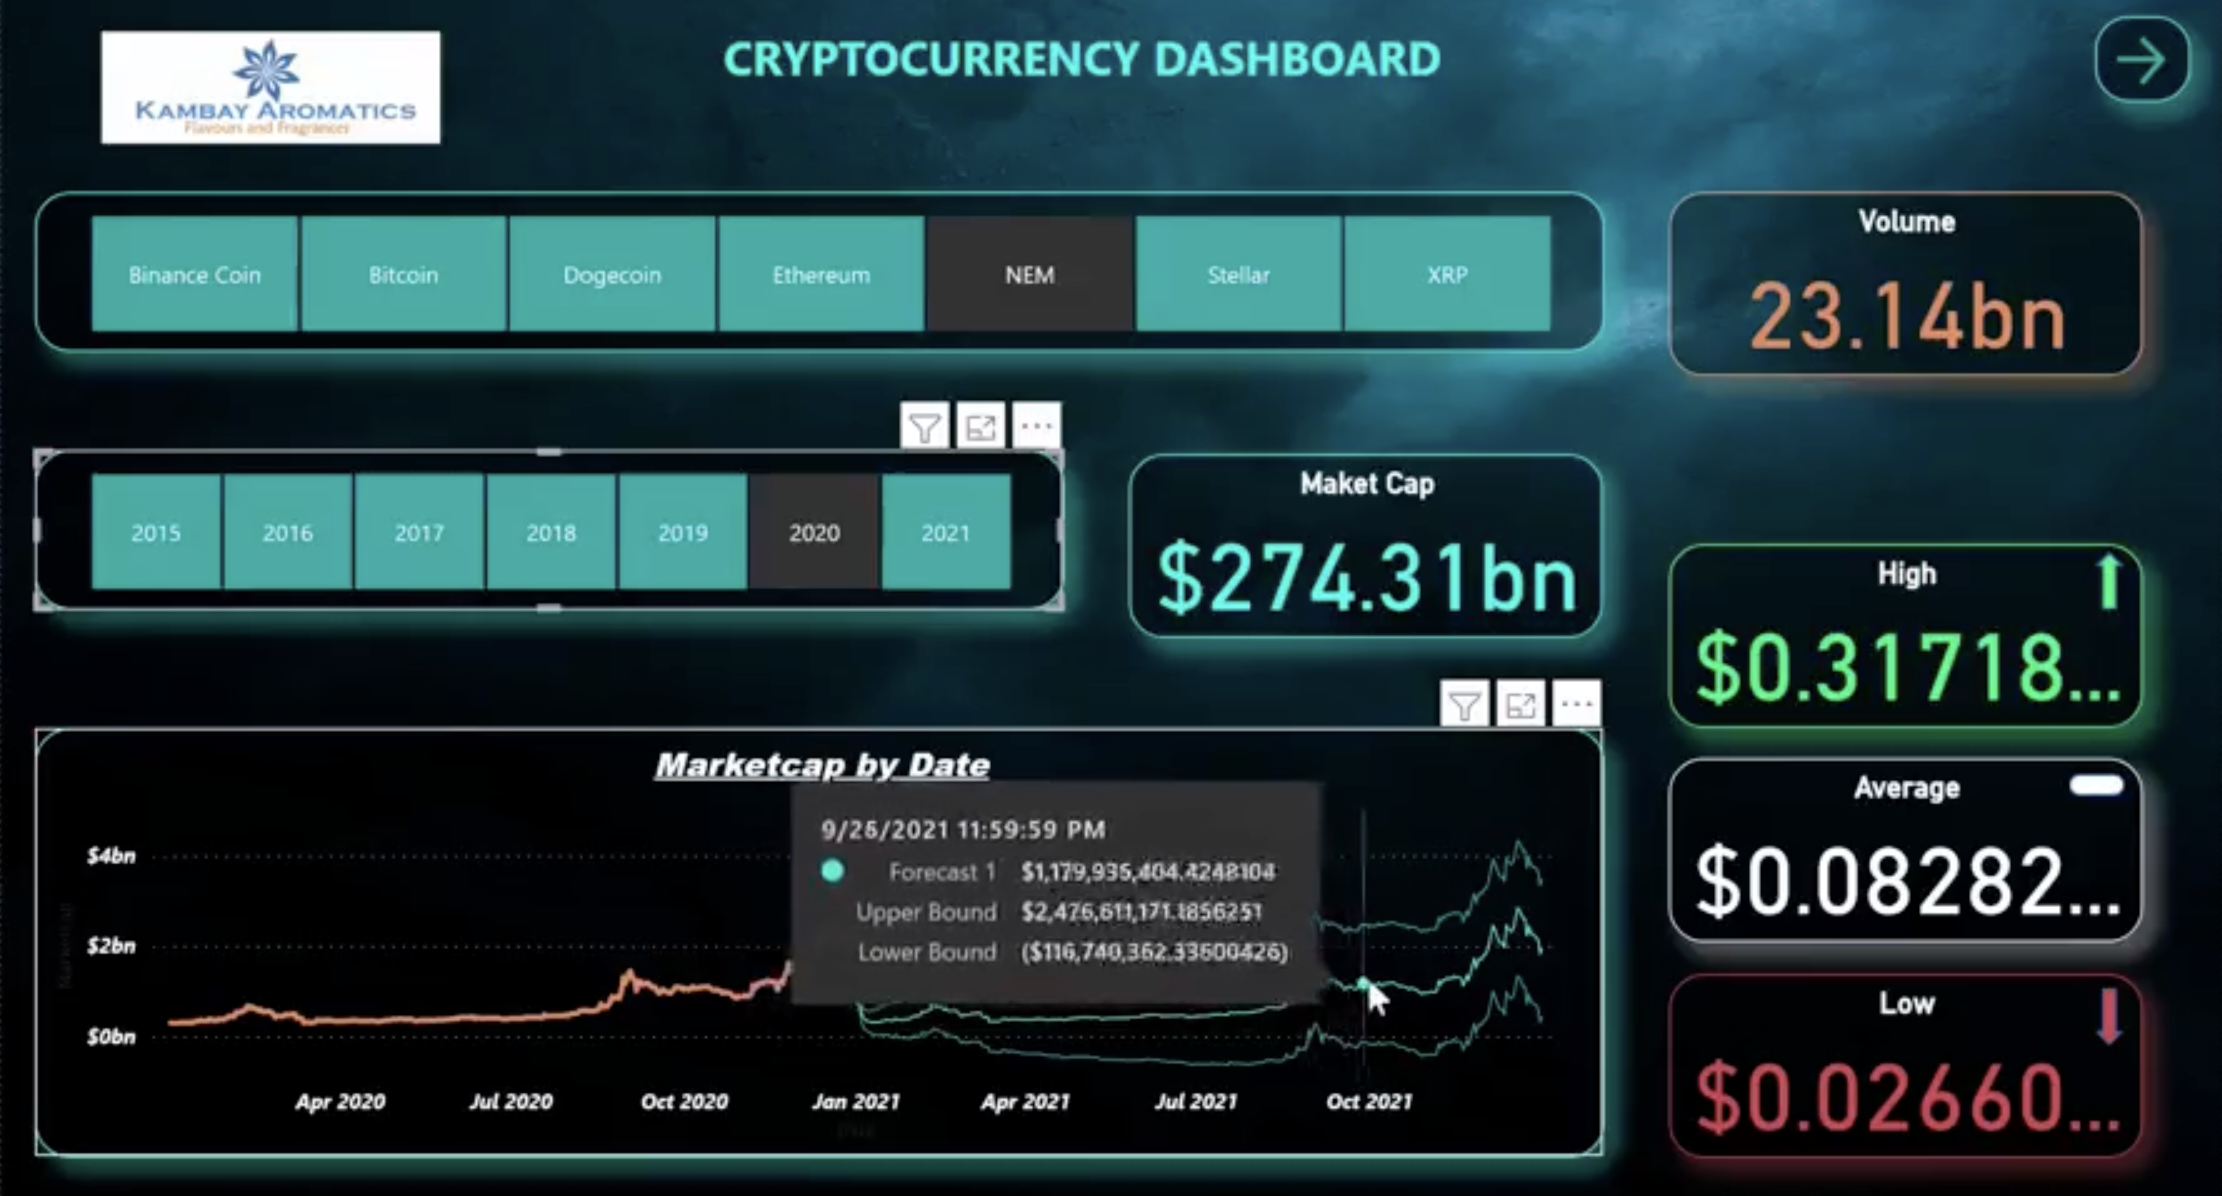

What the dashboard file says about the page in this screenshot:
{"tool":"powerbi","page":{"name":"Page 1","canvas":[1280,720],"ordinal":0},"visuals":[{"type":"slicer","fields":{"Values":["CryptoData CSV.Name"]},"box":[19.1,118.6,903.9,91.8],"z":0},{"type":"slicer","fields":{"Values":["CryptoData CSV.Year"]},"box":[19.1,267.7,592.8,91.8],"z":1000},{"type":"lineChart","fields":{"Y":["Sum(CryptoData CSV.Marketcap)"],"Category":["CryptoData CSV.Date"]},"box":[19.1,427.1,903.9,247.3],"z":2000},{"type":"actionButton","box":[1206.1,17.8,54.8,49.7],"z":3000},{"type":"image","box":[53,17.3,205.1,81.8],"z":4000},{"type":"textbox","box":[411.8,17.8,455.1,48.4],"z":5000},{"type":"card","title":"Volume","fields":{"Values":["Sum(CryptoData CSV.Volume)"]},"box":[961.3,118.6,272.8,105.8],"z":6000},{"type":"card","title":"Maket Cap","fields":{"Values":["Sum(CryptoData CSV.Marketcap)"]},"box":[650,270.1,272.8,105.8],"z":6001},{"type":"card","title":"High","fields":{"Values":["Max(CryptoData CSV.High)"]},"box":[961.3,321.3,272.8,105.8],"z":6002},{"type":"card","title":"Average","fields":{"Values":["Avg(CryptoData CSV.Average)"]},"box":[961.3,444.9,272.8,105.8],"z":6003},{"type":"card","title":"Low","fields":{"Values":["Min(CryptoData CSV.Low)"]},"box":[961.3,568.6,272.8,105.8],"z":6004},{"type":"shape","box":[1206.1,326.4,16.6,33.1],"z":6005},{"type":"shape","box":[1206.1,577.5,16.6,33.1],"z":6006},{"type":"shape","box":[1190.8,453.9,31.9,12.7],"z":6007}]}

Visuals, with their boxes on the page's 1280x720 design canvas (x1, y1, x2, y2). These are canvas units, not pixel positions in the 2222x1196 screenshot, which may show the page scaled, cropped or inside an application window:
slicer - CryptoData CSV.Name: Rect(19, 119, 923, 210)
slicer - CryptoData CSV.Year: Rect(19, 268, 612, 360)
lineChart - Sum(CryptoData CSV.Marketcap) x CryptoData CSV.Date: Rect(19, 427, 923, 674)
actionButton: Rect(1206, 18, 1261, 68)
image: Rect(53, 17, 258, 99)
textbox: Rect(412, 18, 867, 66)
"Volume" card: Rect(961, 119, 1234, 224)
"Maket Cap" card: Rect(650, 270, 923, 376)
"High" card: Rect(961, 321, 1234, 427)
"Average" card: Rect(961, 445, 1234, 551)
"Low" card: Rect(961, 569, 1234, 674)
shape: Rect(1206, 326, 1223, 360)
shape: Rect(1206, 578, 1223, 611)
shape: Rect(1191, 454, 1223, 467)
